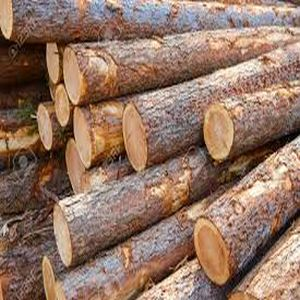log: (190, 215, 234, 288), (119, 98, 152, 176), (201, 102, 236, 164), (48, 199, 75, 269), (72, 106, 96, 172), (65, 138, 90, 197), (62, 46, 84, 105), (36, 102, 56, 152), (37, 256, 59, 300), (44, 42, 63, 86), (54, 84, 72, 127), (1, 1, 15, 38)
